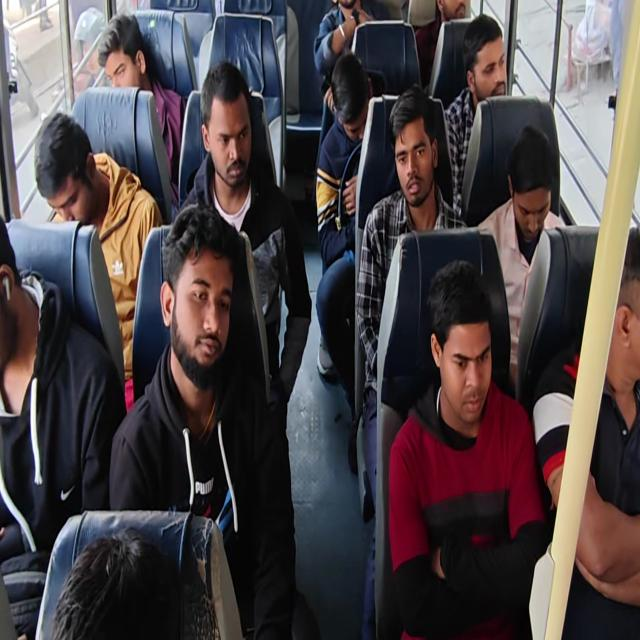person: (162, 208, 248, 394), (424, 254, 504, 447), (58, 525, 175, 640), (29, 102, 102, 235), (195, 62, 262, 192), (503, 122, 564, 248), (598, 215, 640, 391), (387, 92, 444, 213), (327, 53, 383, 154), (458, 21, 518, 106), (1, 204, 27, 391), (93, 12, 149, 92), (326, 0, 382, 31), (430, 2, 485, 30)
